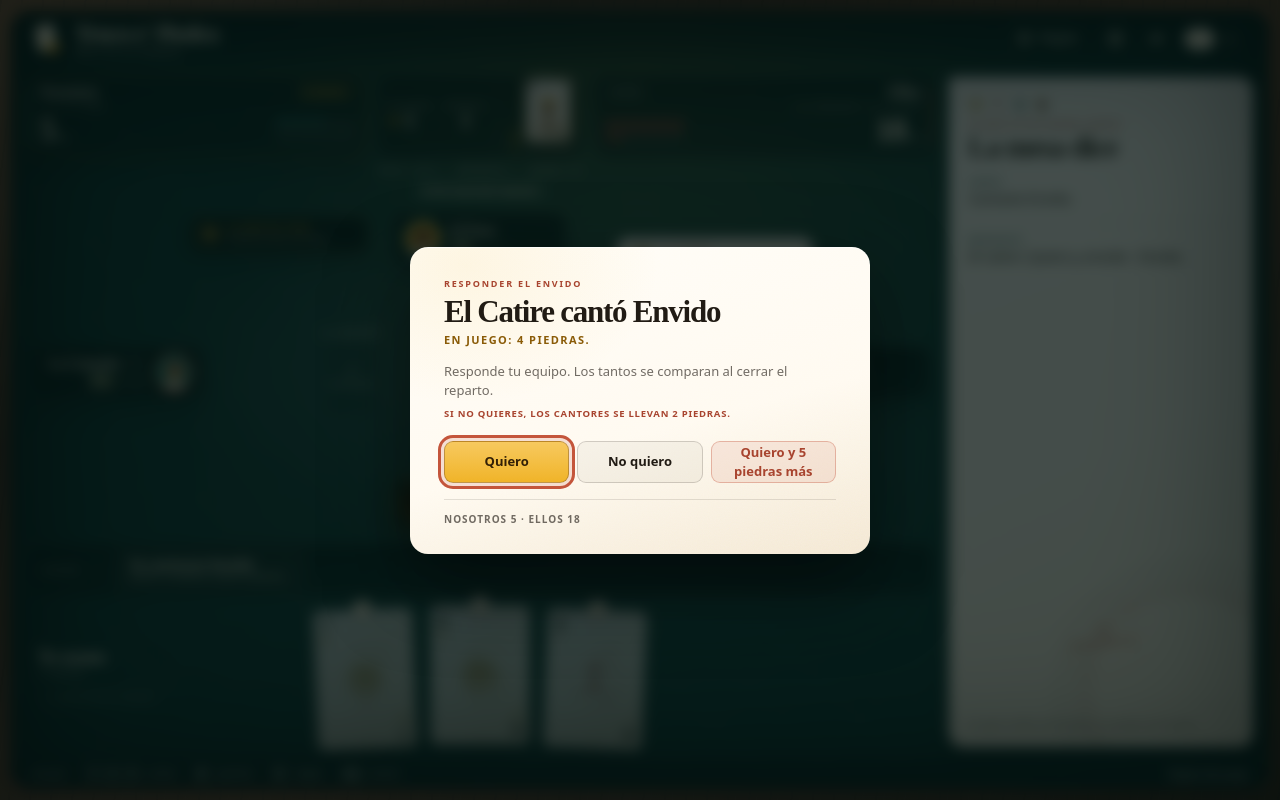
the envido dialog › declines the envido and keeps the reparto alive
The image size is (1280, 800).
Click the button with aria-label "No querer el Envido" at (640, 461), box [577,440,703,482]
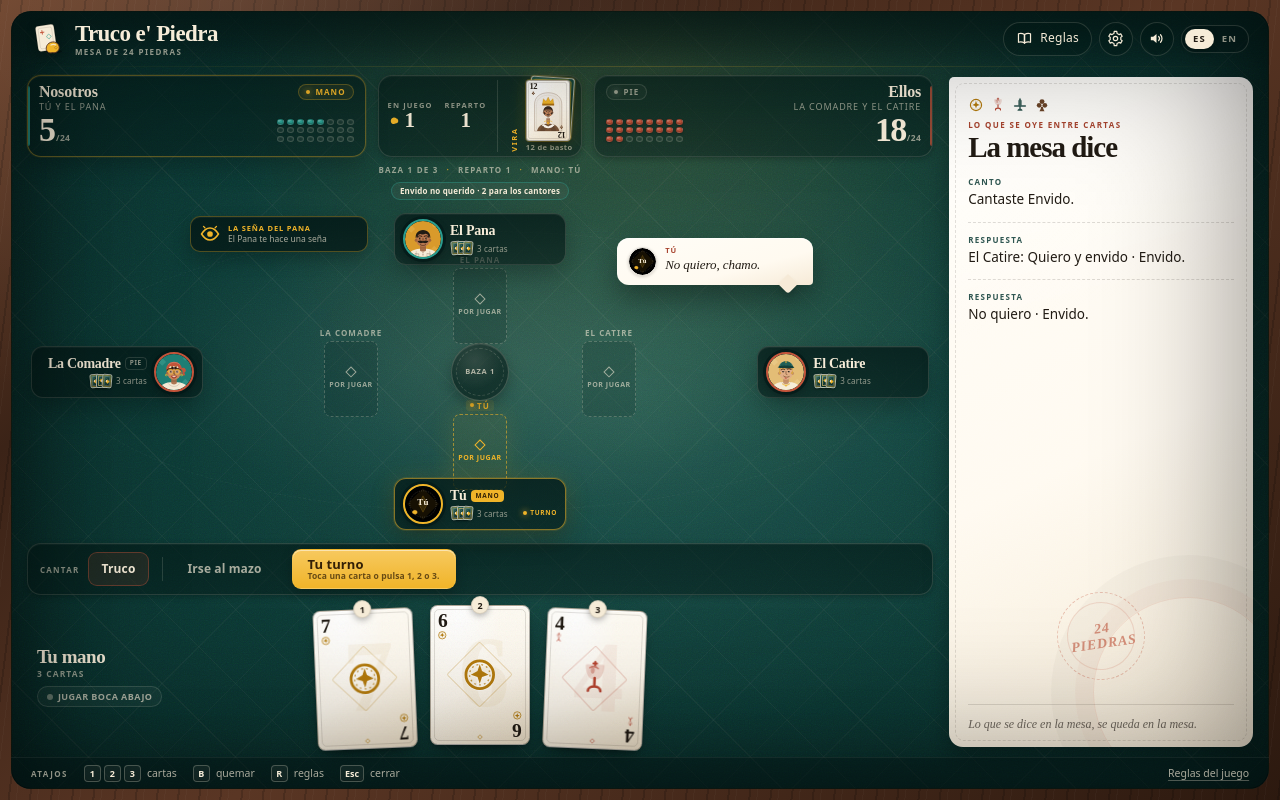
Now the text "Envido no querido · 2 para los cantores" is shown, box [400,186,560,196]
Now the text "No quiero · Envido." is shown, box [968,305,1089,323]
Now the dialog is gone
